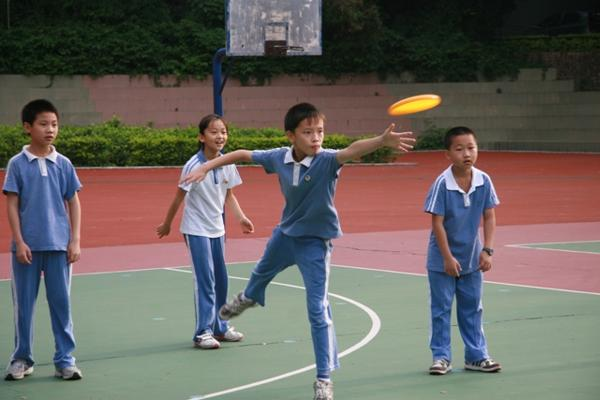person: (178, 101, 416, 400)
